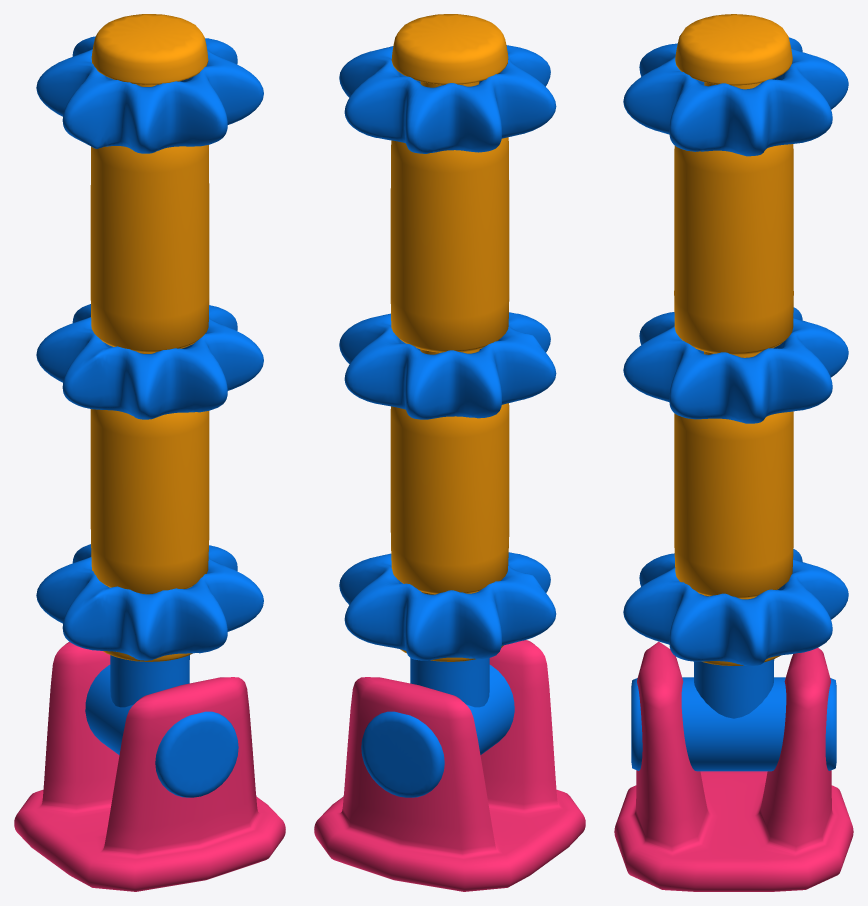
The picture shows the model from 3 angles, left to right: view 1: azimuth 30°, elevation 25°; view 2: azimuth 150°, elevation 25°; view 3: azimuth 270°, elevation 25°; orthographic projection.
Visible parts, largest first — view 1: Kol.008, Cube.001, Knife.007, Knife.019, Knife.020; view 2: Kol.008, Cube.001, Knife.007, Knife.019, Knife.020; view 3: Kol.008, Cube.001, Knife.007, Knife.019, Knife.020.
Boxes of the visible parts, left/top/right/bottom form: Kol.008: left=85, top=14, right=238, bottom=797; Cube.001: left=14, top=642, right=285, bottom=891; Knife.007: left=36, top=36, right=263, bottom=153; Knife.019: left=36, top=544, right=263, bottom=660; Knife.020: left=36, top=304, right=263, bottom=419; Kol.008: left=361, top=14, right=514, bottom=797; Cube.001: left=314, top=640, right=585, bottom=891; Knife.007: left=339, top=45, right=556, bottom=153; Knife.019: left=339, top=552, right=556, bottom=660; Knife.020: left=339, top=312, right=556, bottom=419; Kol.008: left=631, top=14, right=836, bottom=771; Cube.001: left=614, top=641, right=853, bottom=891; Knife.007: left=623, top=37, right=848, bottom=156; Knife.019: left=623, top=549, right=848, bottom=665; Knife.020: left=623, top=307, right=848, bottom=423.
Size of the model in its own units: 15.96 by 59.98 by 15.98.
